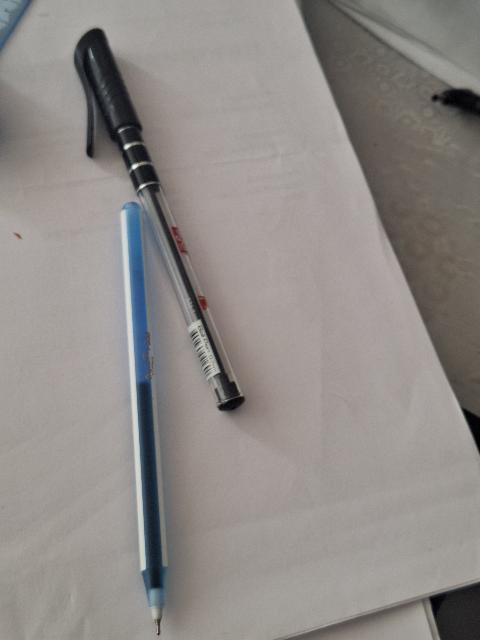writing_tool: (69, 22, 248, 416), (115, 196, 173, 640)
